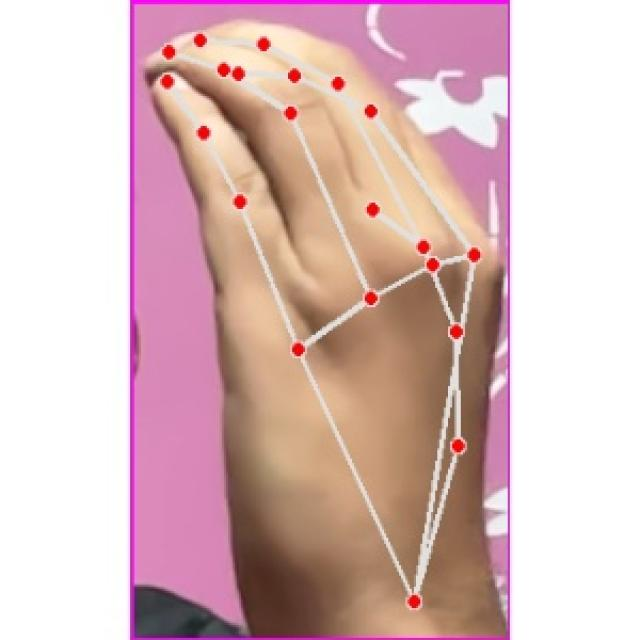C: (138, 12, 507, 639)
